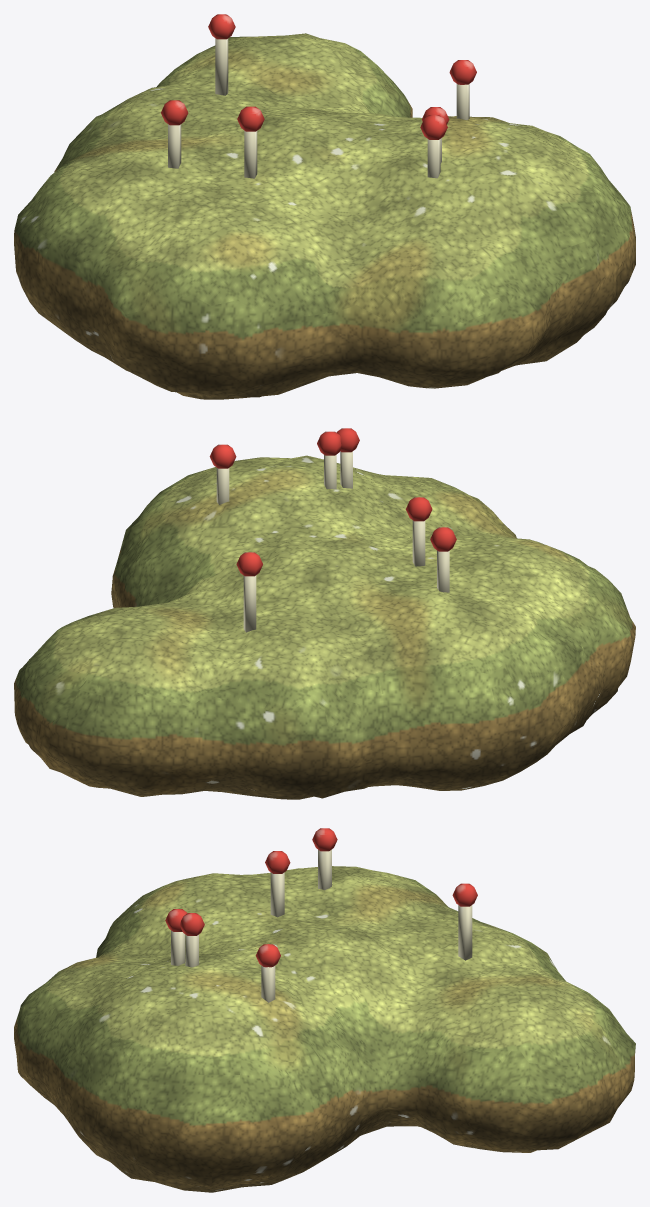
The model's file is moss_b.glb.
3 views of the same model, one above another, from view 1: azimuth 30°, elevation 25°; view 2: azimuth 150°, elevation 25°; view 3: azimuth 270°, elevation 25° (orthographic). The views are drawn at different scales.
Visible parts, largest first — view 1: Moss; view 2: Moss; view 3: Moss.
Boxes of the visible parts, bbox=[...] form: Moss: bbox=[14, 14, 635, 399]; Moss: bbox=[14, 428, 635, 799]; Moss: bbox=[14, 828, 635, 1192].
Size of the model in its own units: 0.9402 by 0.4515 by 1.07.
Materials: 1 (1 with a texture image).
